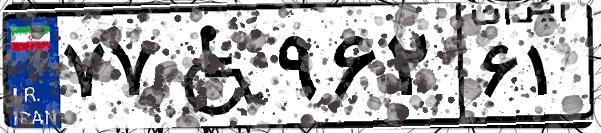1: (525, 38, 570, 115)
2: (385, 28, 445, 110)
6: (330, 28, 385, 110), (475, 38, 525, 113)
7: (57, 26, 110, 100), (110, 28, 158, 98)
9: (270, 28, 330, 110)
ژ (معلولین و جانبازان): (158, 12, 270, 120)
